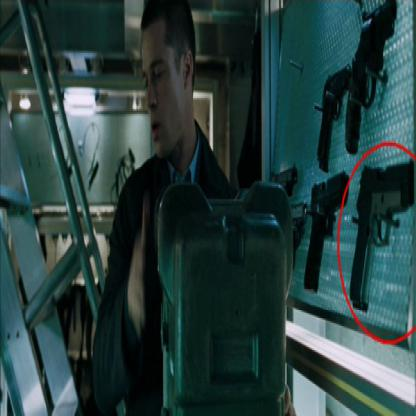Gun: (304, 0, 415, 320), (266, 159, 307, 247)
